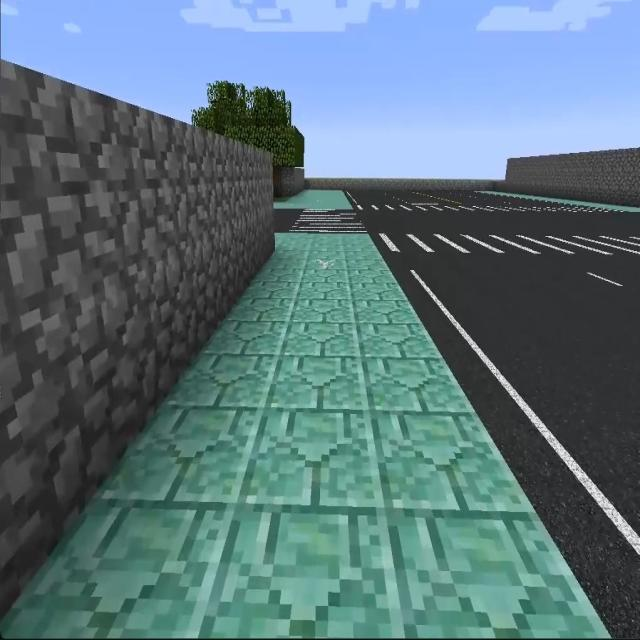crosswalk: (371, 223, 639, 262), (354, 199, 616, 214), (285, 208, 379, 229)
road: (403, 260, 633, 623), (369, 211, 637, 229), (350, 191, 516, 200), (274, 209, 301, 232)
sidewalk: (0, 232, 609, 639), (479, 191, 639, 211), (274, 190, 352, 209)
